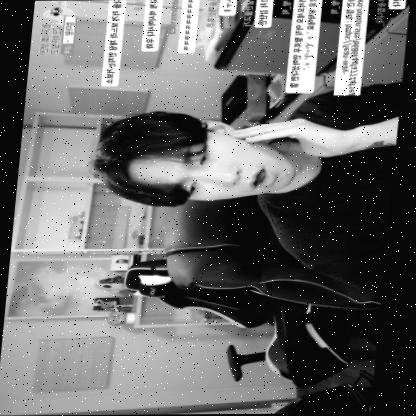streamer: (81, 80, 405, 300)
